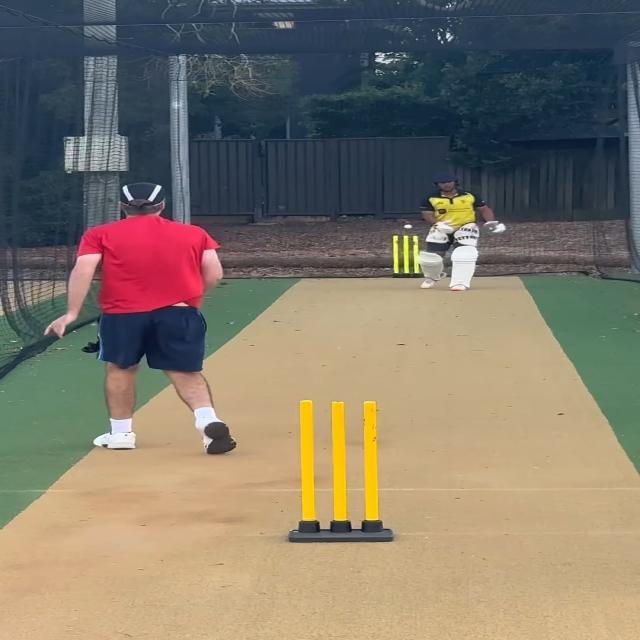stump: (293, 400, 390, 543), (391, 235, 420, 277)
